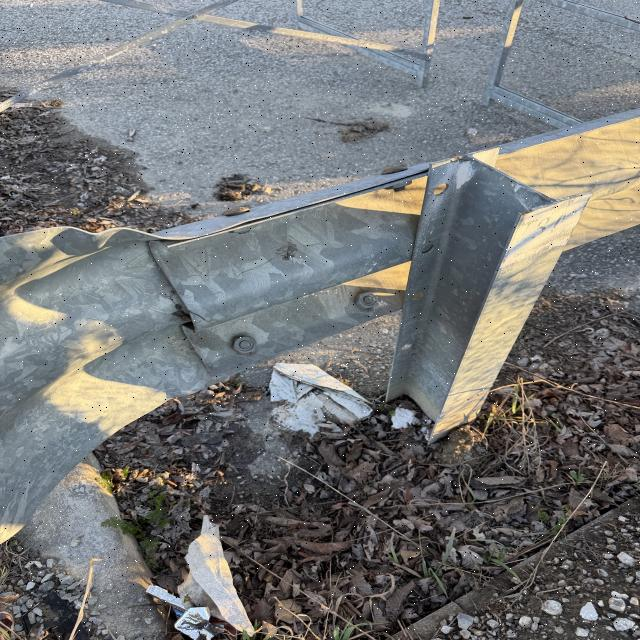Guard rail: (113, 165, 637, 325), (0, 241, 204, 549)
